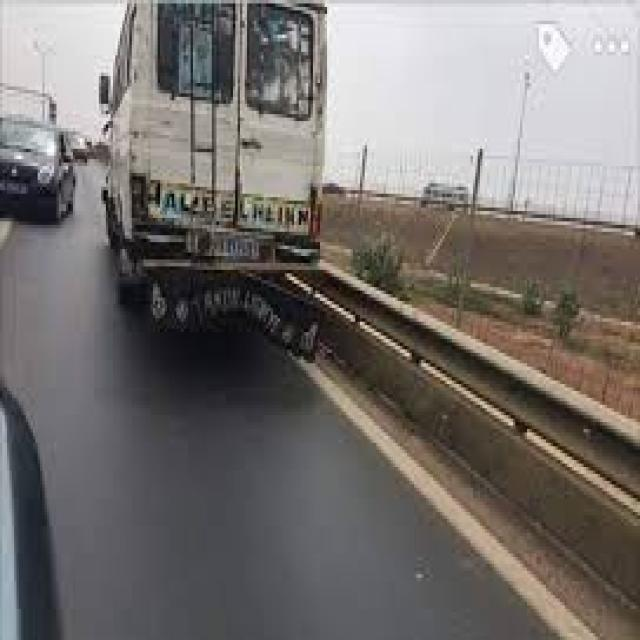ndiaga ndiaye: (110, 1, 324, 258)
